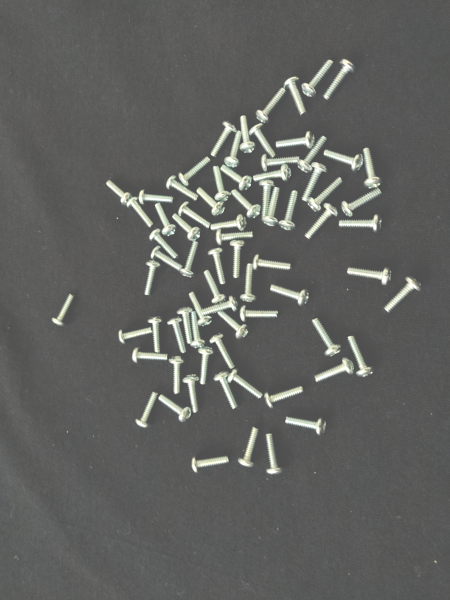shortscrew: (384, 275, 423, 313), (324, 58, 358, 101), (305, 203, 341, 240), (308, 177, 344, 212), (302, 59, 334, 98), (342, 188, 383, 218), (313, 318, 343, 358), (348, 335, 375, 378), (228, 369, 265, 400), (298, 135, 328, 173), (256, 87, 286, 124), (315, 357, 356, 384), (249, 122, 278, 159), (264, 385, 305, 411), (177, 156, 211, 187), (210, 120, 237, 158), (283, 76, 307, 117), (250, 124, 278, 159), (303, 163, 328, 202), (210, 333, 237, 369), (239, 427, 262, 469), (230, 189, 261, 220), (215, 371, 239, 411), (158, 394, 191, 423), (177, 202, 211, 230), (149, 245, 184, 272), (265, 434, 287, 476), (217, 311, 250, 339), (271, 284, 311, 307), (221, 165, 255, 192), (197, 187, 227, 217), (188, 292, 213, 328), (127, 197, 155, 229), (324, 149, 364, 171), (149, 229, 178, 259), (280, 190, 301, 231), (348, 267, 393, 286), (339, 214, 384, 233), (135, 392, 158, 429), (166, 175, 198, 201), (263, 187, 283, 228), (203, 270, 226, 305), (253, 164, 293, 184), (286, 417, 328, 436), (173, 213, 201, 241), (52, 293, 75, 327), (277, 132, 316, 152), (364, 148, 383, 188), (224, 130, 243, 168), (203, 296, 239, 316), (192, 455, 231, 473), (168, 356, 186, 395), (240, 264, 258, 303), (168, 316, 186, 355), (259, 180, 275, 223), (118, 326, 154, 345), (211, 214, 249, 232), (208, 247, 226, 285), (231, 239, 248, 279), (252, 254, 292, 271), (106, 180, 132, 206), (239, 306, 281, 322), (181, 241, 199, 278), (213, 166, 231, 203), (261, 154, 300, 171), (177, 306, 194, 345), (183, 375, 199, 415), (198, 346, 214, 386), (144, 260, 161, 297), (217, 228, 254, 245), (131, 348, 169, 364), (148, 316, 164, 354), (240, 115, 255, 155), (190, 311, 205, 349)
